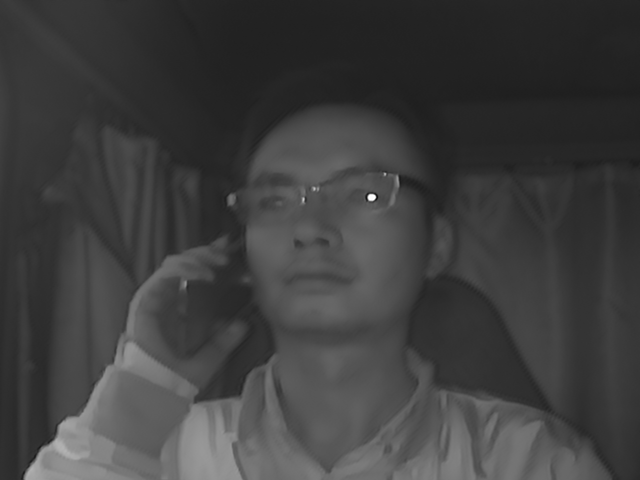hand: (128, 234, 244, 390)
